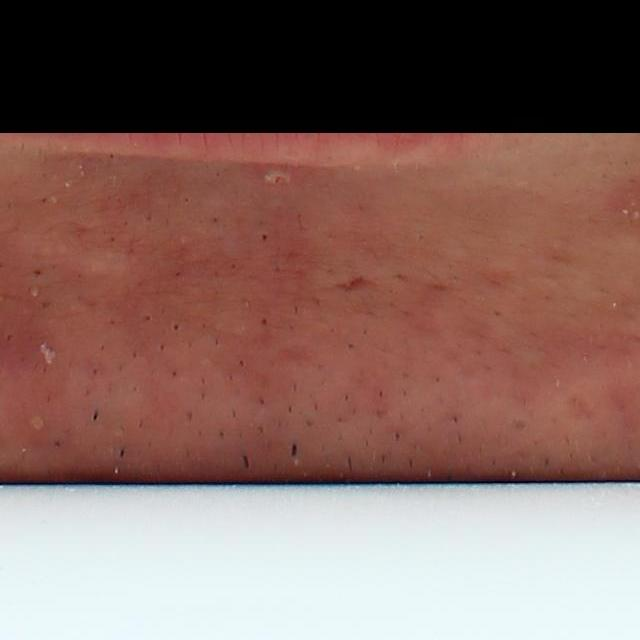atrophic_scar: (331, 273, 374, 289)
hypertrophic_scar: (17, 231, 136, 278)
pustule: (251, 163, 297, 190), (26, 409, 62, 440)
